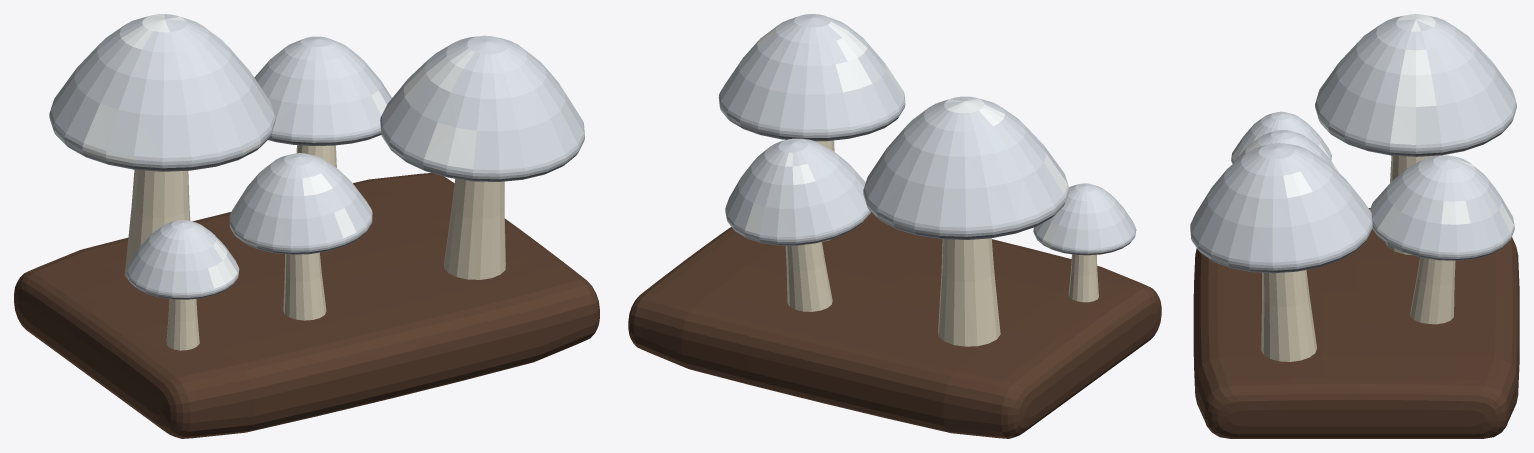
File: CropGlowcap.obj
The picture shows the model from 3 angles, left to right: view 1: azimuth 30°, elevation 25°; view 2: azimuth 150°, elevation 25°; view 3: azimuth 270°, elevation 25°; orthographic projection. The views are drawn at different scales.
Bounding box in the file's own units: 3.04 × 2.14 × 2.22.
